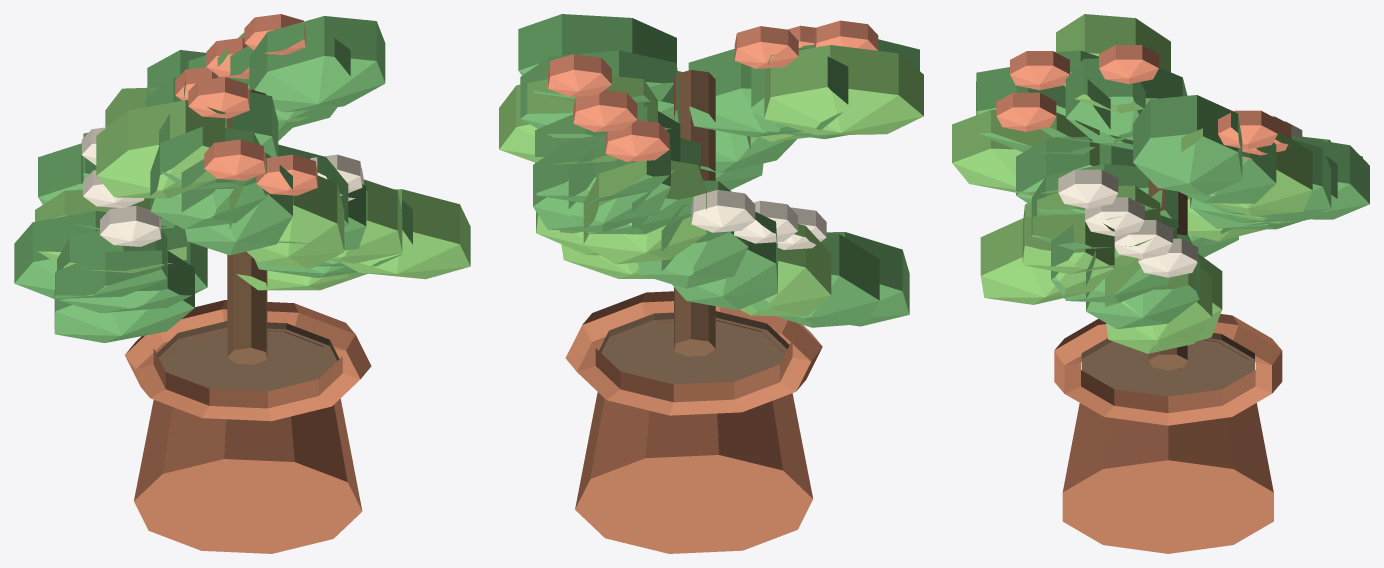
File: plant_blossom.glb
The picture shows the model from 3 angles, left to right: view 1: azimuth 30°, elevation 25°; view 2: azimuth 150°, elevation 25°; view 3: azimuth 270°, elevation 25°; orthographic projection. The views are drawn at different scales.
Visible parts, largest first — view 1: plant_blossom; view 2: plant_blossom; view 3: plant_blossom.
Part boxes in pixels (box(x1,y1,x2,y2)): plant_blossom: box(14, 14, 470, 553); plant_blossom: box(499, 14, 923, 553); plant_blossom: box(952, 14, 1369, 553).
Bounding box in the file's own units: 0.903 × 1.09 × 0.9408.
